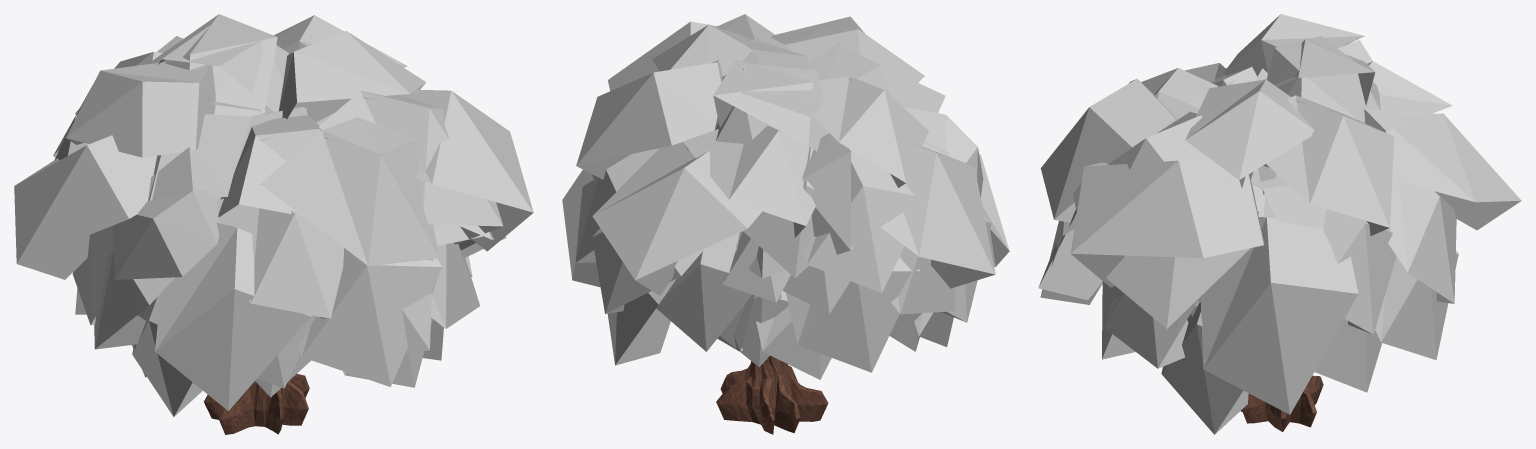
The model's file is tree1.obj.
3 renders of one model, left to right at view 1: azimuth 30°, elevation 25°; view 2: azimuth 150°, elevation 25°; view 3: azimuth 270°, elevation 25°, orthographic. The views are drawn at different scales.
Parts seen in each view (by area): view 1: Plane.1060_Plane.003, tree_brown_001.003_tree_brown_001.004; view 2: Plane.1060_Plane.003, tree_brown_001.003_tree_brown_001.004; view 3: Plane.1060_Plane.003, tree_brown_001.003_tree_brown_001.004.
Part boxes in pixels (left/top/right/bottom): Plane.1060_Plane.003: left=14, top=14, right=533, bottom=416; tree_brown_001.003_tree_brown_001.004: left=204, top=373, right=309, bottom=434; Plane.1060_Plane.003: left=562, top=14, right=1009, bottom=379; tree_brown_001.003_tree_brown_001.004: left=716, top=355, right=828, bottom=434; Plane.1060_Plane.003: left=1038, top=14, right=1521, bottom=434; tree_brown_001.003_tree_brown_001.004: left=1241, top=375, right=1323, bottom=431.
Bounding box in the file's own units: 12.6 × 10.18 × 12.52.
